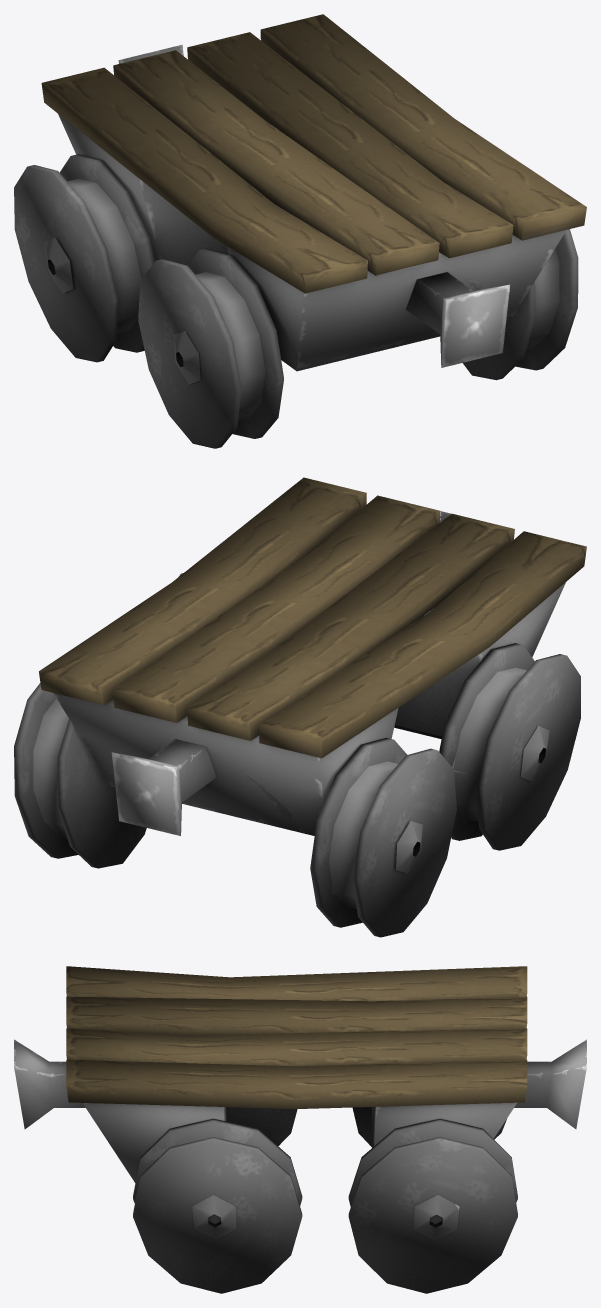
File: vagoneta.FBX
3 renders of one model, top to bottom at view 1: azimuth 30°, elevation 25°; view 2: azimuth 150°, elevation 25°; view 3: azimuth 270°, elevation 25°, orthographic. The views are drawn at different scales.
Parts seen in each view (by area): view 1: vagoneta003, rueda006, rueda005, rueda007; view 2: vagoneta003, rueda005, rueda006, rueda008; view 3: vagoneta003, rueda007, rueda008, rueda006, rueda005.
Boxes of the visible parts, x1,y1,x2,y2 form: vagoneta003: (41,14,586,384); rueda006: (138,248,283,448); rueda005: (14,154,154,362); rueda007: (463,229,578,380); vagoneta003: (39,477,586,873); rueda005: (310,738,456,937); rueda006: (439,643,580,850); rueda008: (14,683,146,868); vagoneta003: (14,966,586,1240); rueda007: (133,1118,302,1293); rueda008: (348,1119,517,1293); rueda006: (227,1107,297,1146); rueda005: (352,1107,506,1147).
Size of the model in its own units: 6.57 by 3.93 by 10.27.
1 material, 1 textured.
